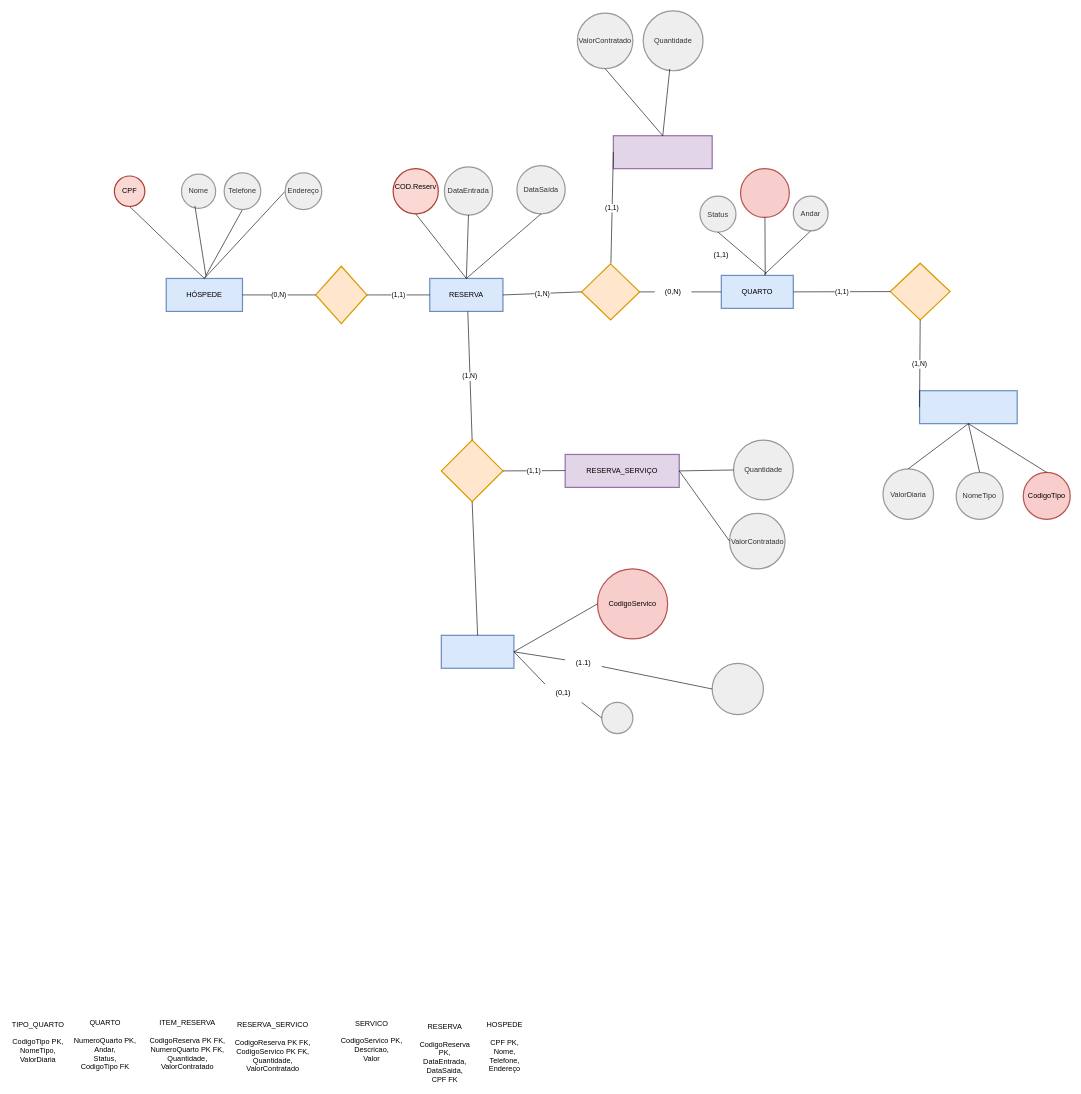
This 1081x1094 diagram has some shape labels left out. Here are the shapes that lost their labels. From the top down, the centre of each, then its label:
At [662,152]: "ITEM_RESERVA".
At [765,193]: "NumeroQuarto".
At [341,294]: "REALIZA".
At [610,291]: "CONTÉM".
At [919,291]: "PERTENCE".
At [968,407]: "TIPO_QUARTO".
At [471,470]: "INCLUI".
At [477,651]: "SERVIÇO".
At [737,688]: "Descricao".
At [617,718]: "Valor".
